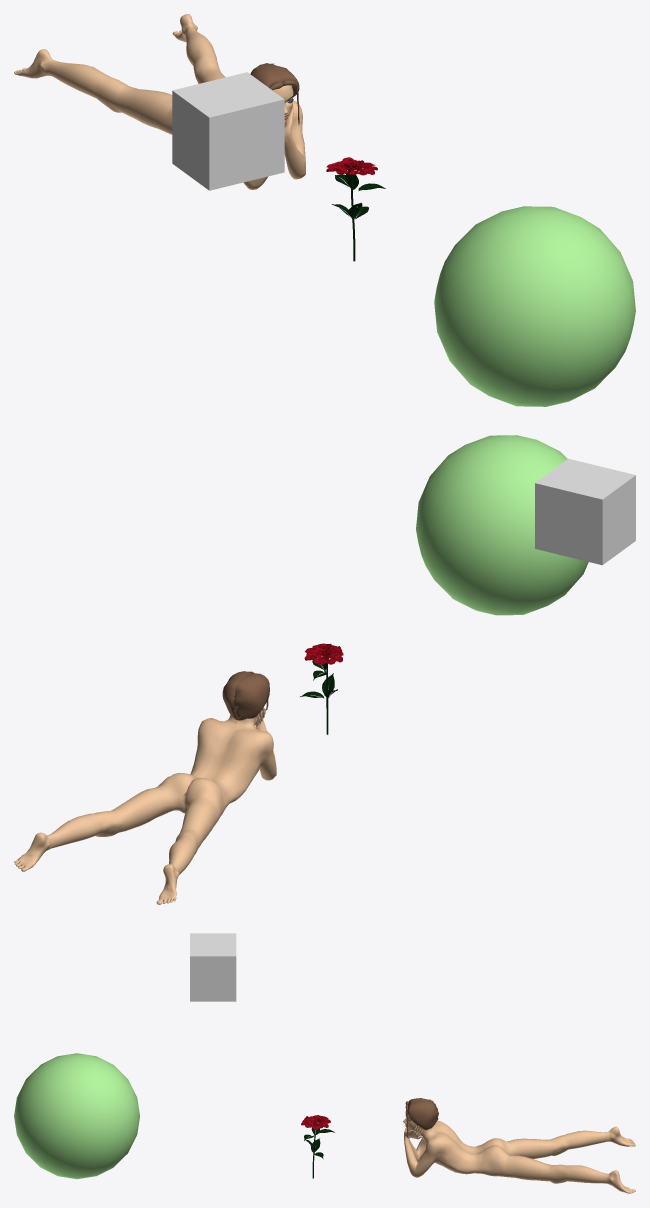
File: PlageTarget.FBX
3 views of the same model, one above another, from view 1: azimuth 30°, elevation 25°; view 2: azimuth 150°, elevation 25°; view 3: azimuth 270°, elevation 25° (orthographic). The views are drawn at different scales.
Parts seen in each view (by area): view 1: GeoSphere01, Box01, girl, STEM, hair; view 2: GeoSphere01, girl, Box01, hair, STEM; view 3: GeoSphere01, girl, Box01, hair, STEM.
Part boxes in pixels (x1,y1,x2,y2): GeoSphere01: [434, 206, 635, 406]; Box01: [172, 72, 284, 190]; girl: [14, 14, 305, 189]; STEM: [326, 157, 385, 261]; hair: [250, 63, 299, 125]; GeoSphere01: [416, 435, 588, 615]; girl: [14, 707, 276, 904]; Box01: [535, 458, 635, 565]; hair: [222, 671, 269, 720]; STEM: [300, 643, 343, 734]; GeoSphere01: [14, 1053, 139, 1179]; girl: [403, 1110, 635, 1193]; Box01: [190, 933, 236, 1001]; hair: [405, 1098, 438, 1137]; STEM: [301, 1115, 334, 1178].
Size of what is drawn, in the model's own units: 161 by 126 by 413.
